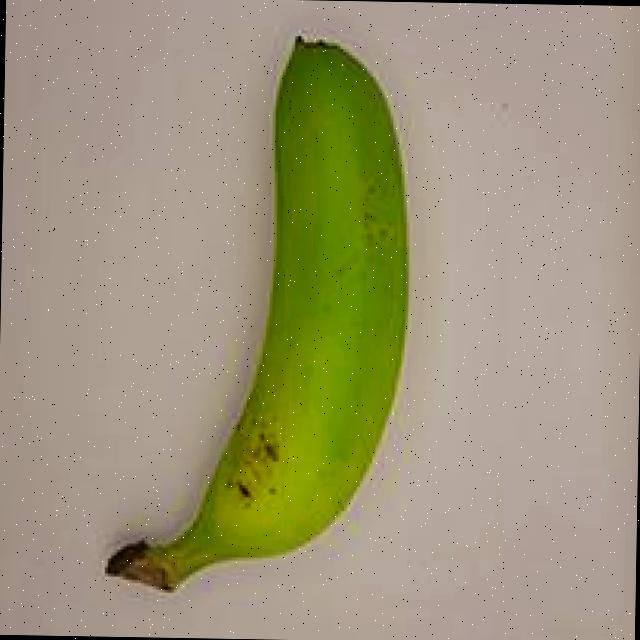Unripe: (59, 4, 448, 620)
